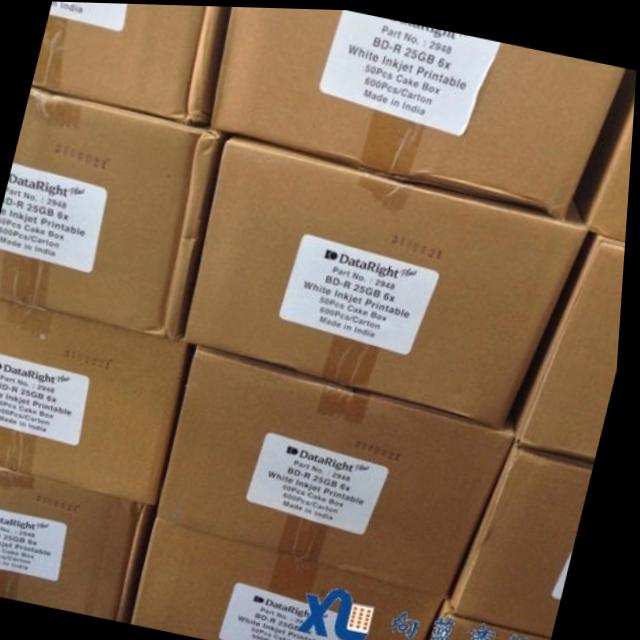box: (188, 135, 590, 424), (162, 345, 521, 593), (213, 5, 625, 216), (0, 89, 219, 337), (0, 297, 192, 504), (137, 519, 451, 640), (456, 435, 599, 632), (516, 228, 628, 454), (31, 1, 225, 124), (0, 466, 150, 619), (575, 68, 637, 235), (435, 594, 559, 640)
